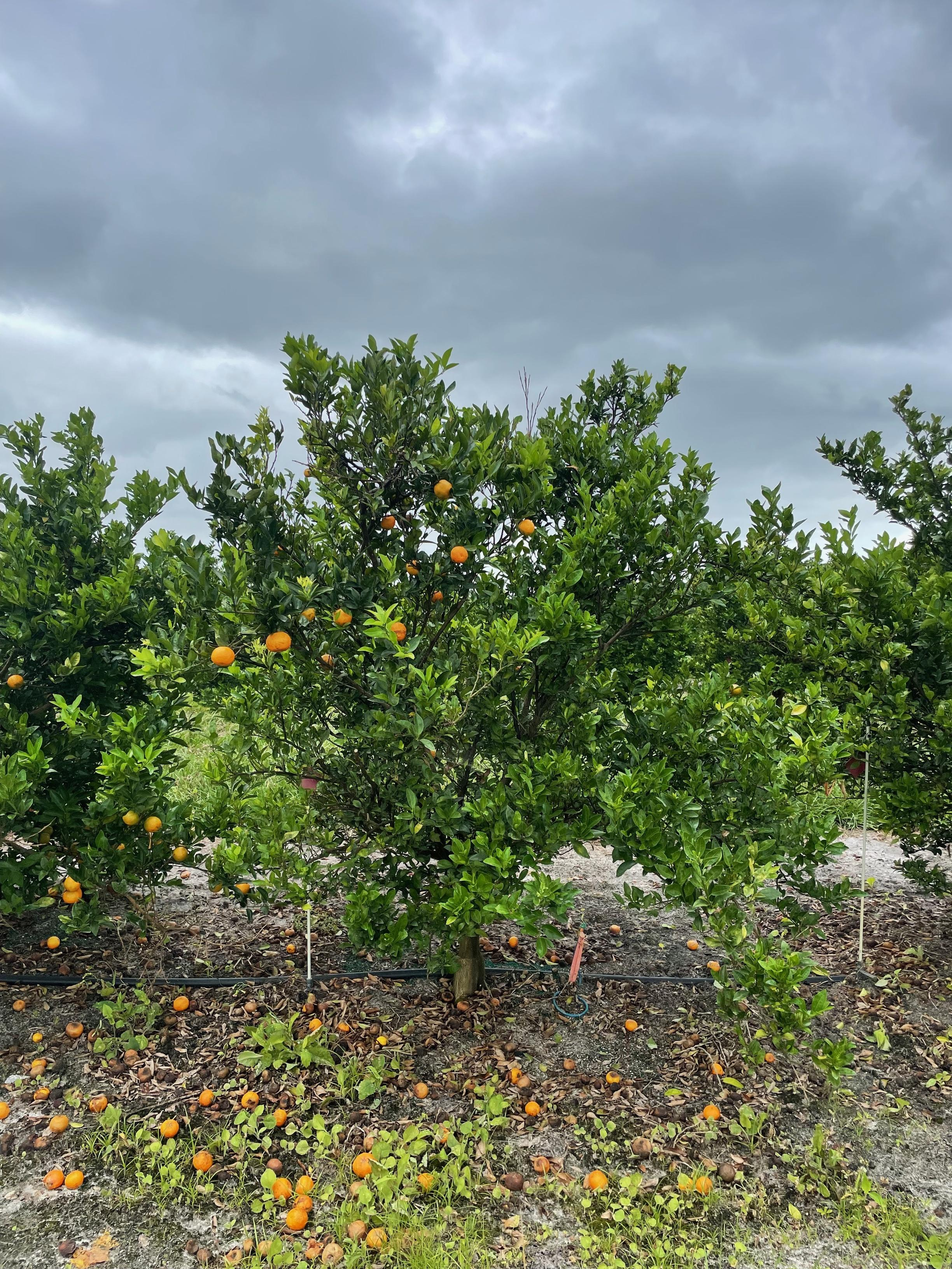fruit_on_ground: (264, 628, 292, 654), (210, 643, 237, 668), (431, 476, 456, 501), (386, 620, 408, 644), (61, 884, 84, 906), (331, 606, 355, 627), (515, 516, 537, 538), (448, 544, 471, 565), (317, 651, 338, 673), (5, 671, 26, 692), (268, 541, 289, 561), (61, 873, 82, 893), (142, 814, 163, 834), (121, 808, 142, 827), (298, 604, 317, 624), (171, 844, 191, 863), (378, 513, 397, 532), (404, 557, 422, 577), (233, 879, 252, 895), (206, 878, 224, 894), (428, 589, 445, 605), (112, 841, 128, 857), (727, 682, 743, 697), (36, 830, 51, 845), (40, 823, 54, 836), (179, 867, 193, 879), (302, 467, 314, 478)
fruit_on_tree: (285, 1206, 312, 1234), (350, 1153, 377, 1178), (321, 1241, 346, 1267), (365, 1226, 390, 1252), (411, 1170, 438, 1194), (344, 1217, 368, 1243), (191, 1149, 215, 1173), (500, 1170, 525, 1193), (271, 1178, 293, 1202), (630, 1135, 653, 1157), (42, 1167, 64, 1190), (47, 1113, 71, 1134), (431, 1124, 453, 1146), (586, 1169, 609, 1190), (63, 1168, 84, 1190), (159, 1117, 180, 1139), (701, 1101, 723, 1122), (346, 1179, 369, 1199), (694, 1173, 714, 1196), (222, 1246, 243, 1267), (529, 1154, 550, 1175), (64, 1019, 86, 1039), (87, 1093, 109, 1113), (239, 1089, 260, 1109), (508, 1066, 529, 1086), (255, 1237, 275, 1257), (197, 1087, 216, 1107), (270, 1107, 289, 1127), (295, 1175, 314, 1195), (265, 1155, 284, 1174), (411, 1080, 430, 1099), (718, 1162, 737, 1181), (136, 1064, 154, 1083), (361, 1133, 380, 1151), (28, 1062, 46, 1081), (523, 1099, 542, 1117), (293, 1194, 313, 1211), (172, 994, 190, 1012), (123, 1051, 142, 1068), (515, 1072, 533, 1089), (240, 1237, 257, 1254), (32, 1086, 50, 1102), (30, 1054, 48, 1070), (604, 1068, 622, 1084), (709, 1061, 726, 1077), (242, 997, 259, 1013), (622, 1016, 639, 1032), (32, 1135, 50, 1150), (207, 879, 224, 894), (45, 935, 62, 950), (0, 1099, 11, 1121), (561, 1056, 577, 1071), (11, 997, 27, 1012), (306, 1017, 323, 1031), (762, 1049, 777, 1064), (685, 937, 701, 951), (705, 959, 722, 972), (375, 1033, 390, 1047), (440, 989, 455, 1003), (301, 1001, 316, 1015), (316, 1000, 331, 1014), (335, 1019, 350, 1033), (503, 1039, 517, 1053), (29, 1030, 43, 1044), (456, 998, 470, 1012), (506, 935, 520, 949), (306, 930, 321, 943), (607, 923, 622, 935), (285, 942, 297, 955), (549, 953, 562, 964), (285, 926, 298, 937)
